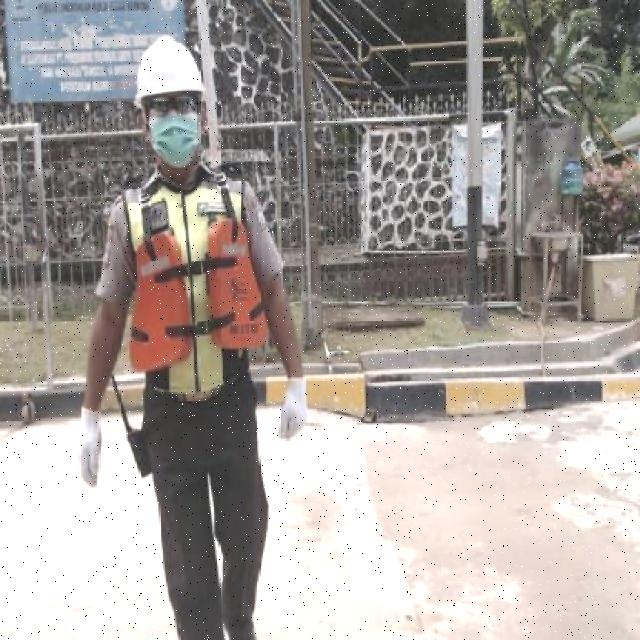Gloves: (70, 402, 110, 491), (277, 370, 311, 448)
Helmet: (137, 33, 206, 96)
Mask: (127, 210, 270, 378)
